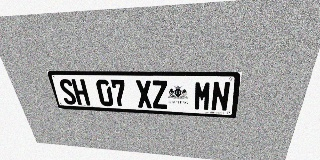0: (95, 79, 114, 106)
7: (110, 80, 128, 107)
H: (71, 79, 91, 105)
M: (194, 81, 212, 111)
N: (211, 81, 231, 112)
S: (58, 79, 78, 105)
X: (135, 80, 153, 108)
Z: (151, 80, 168, 109)
